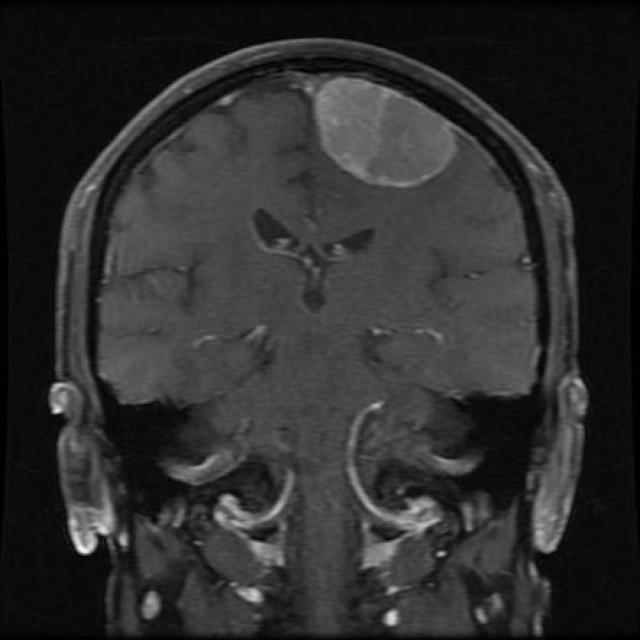Tumor: (314, 77, 458, 188)
